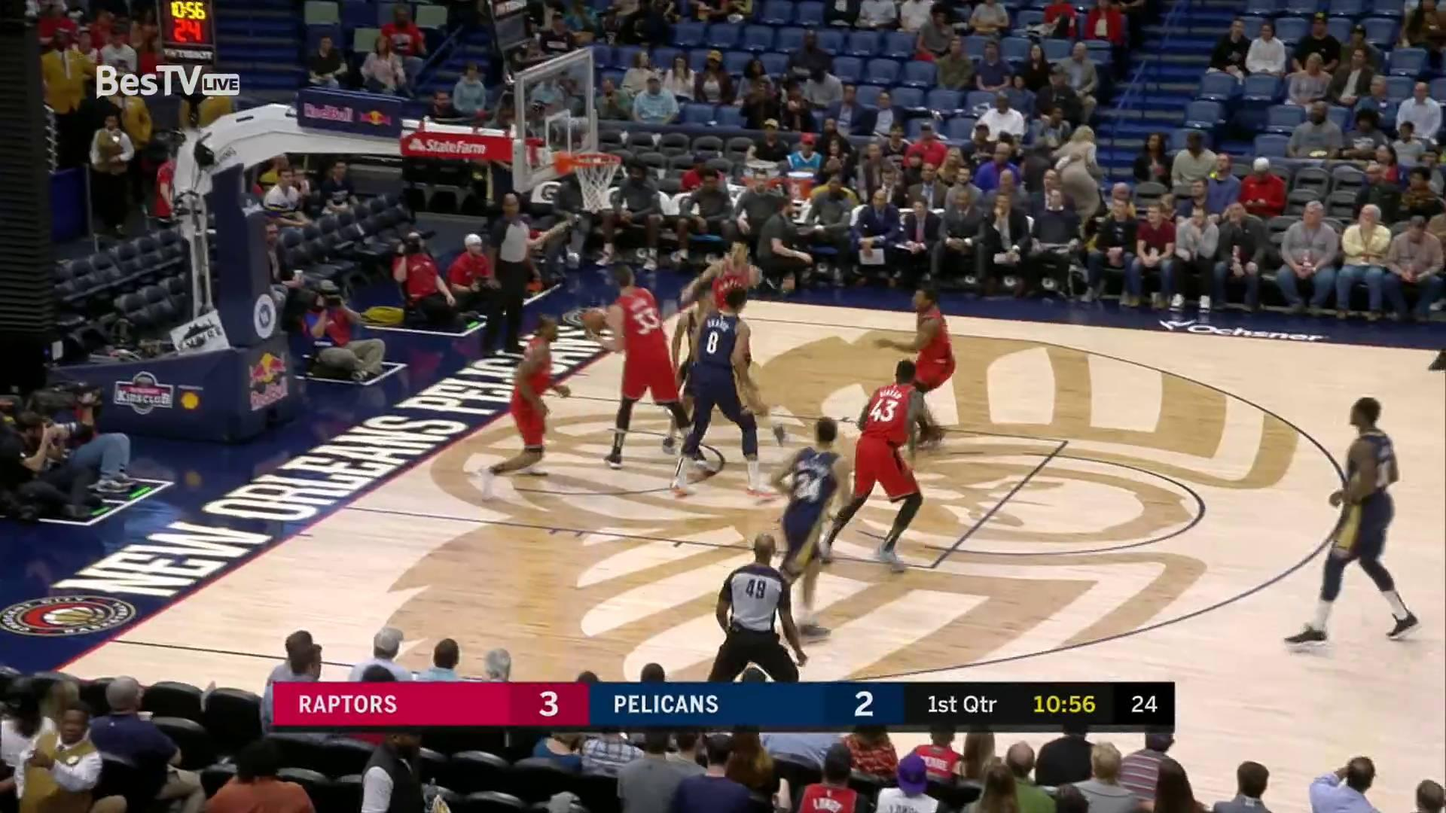basketball: (583, 304, 606, 333)
